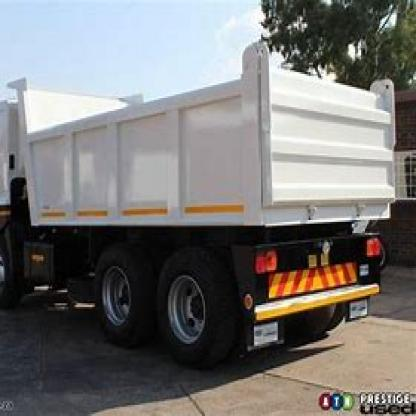dump_truck: (8, 35, 407, 368)
